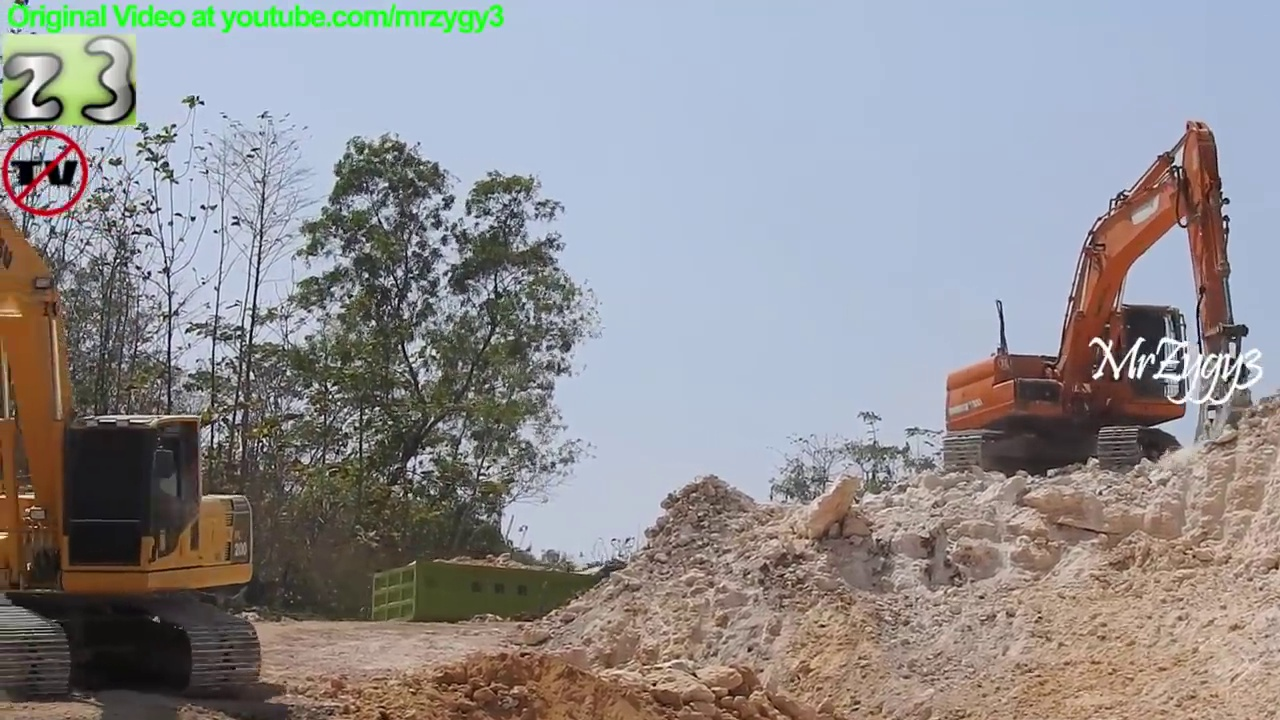compactor: (933, 114, 1267, 486)
excavator: (1, 181, 267, 712)
truck: (362, 548, 691, 659)
